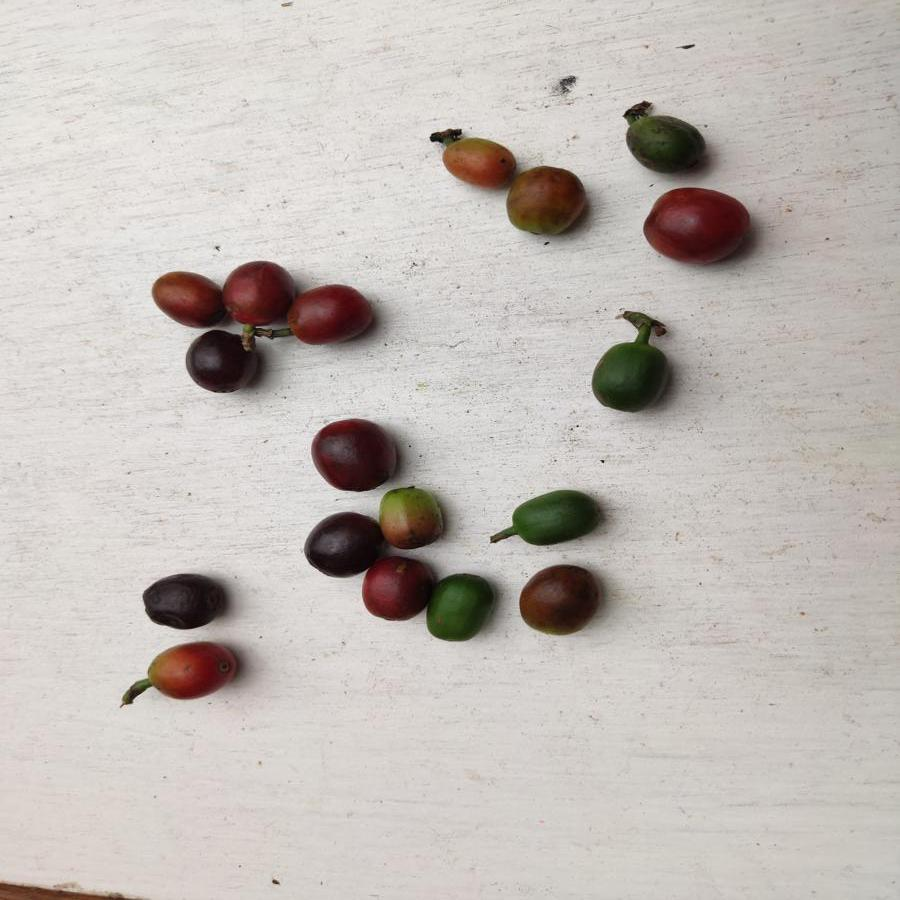Inmaduro: (507, 484, 599, 549), (593, 341, 671, 416), (624, 108, 709, 173), (430, 570, 495, 642)
Maduro: (645, 185, 755, 264), (282, 283, 378, 344), (145, 263, 224, 326), (223, 261, 296, 325)
Pinton: (141, 640, 243, 703), (506, 159, 581, 243), (438, 132, 517, 189), (377, 486, 445, 551)
Sobremaduro: (310, 412, 400, 492), (137, 566, 229, 631), (301, 507, 379, 577), (518, 566, 599, 633), (359, 553, 433, 619)
